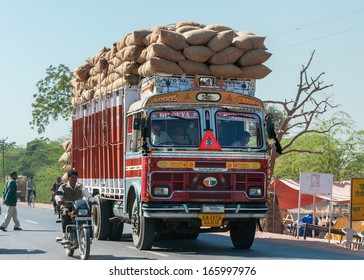motorbike: (53, 188, 99, 260)
truck: (70, 75, 276, 250)
